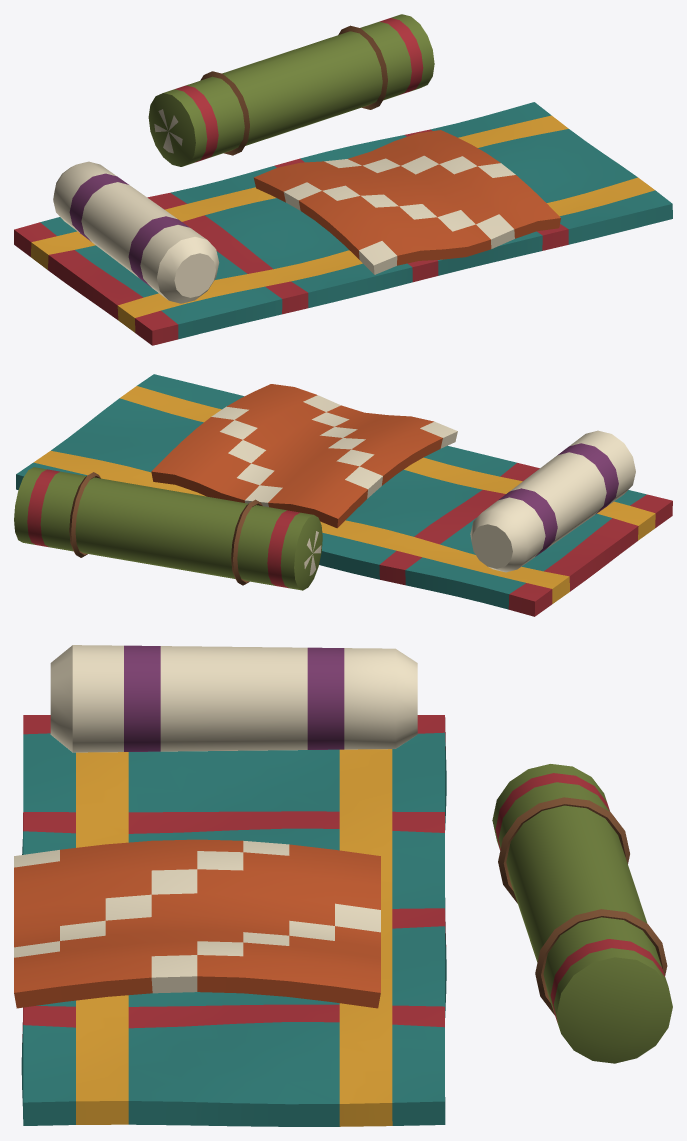
Rendered from deco_sleeping_mat_set.fbx.
3 renders of one model, top to bottom at view 1: azimuth 30°, elevation 25°; view 2: azimuth 150°, elevation 25°; view 3: azimuth 270°, elevation 25°, orthographic. The views are drawn at different scales.
Parts seen in each view (by area): view 1: SleepingMat_Set_Mat, SleepingMat_Set_Blanket, SleepingMat_Set_SpareRoll, SleepingMat_Set_Bolster; view 2: SleepingMat_Set_Mat, SleepingMat_Set_Blanket, SleepingMat_Set_SpareRoll, SleepingMat_Set_Bolster; view 3: SleepingMat_Set_Mat, SleepingMat_Set_Blanket, SleepingMat_Set_Bolster, SleepingMat_Set_SpareRoll.
Boxes of the visible parts, box(x1,y1,x2,y2) form: SleepingMat_Set_Mat: box(14, 102, 672, 345); SleepingMat_Set_Blanket: box(253, 130, 560, 274); SleepingMat_Set_SpareRoll: box(148, 14, 434, 166); SleepingMat_Set_Bolster: box(53, 161, 219, 303); SleepingMat_Set_Mat: box(16, 374, 672, 616); SleepingMat_Set_Blanket: box(151, 384, 457, 528); SleepingMat_Set_SpareRoll: box(14, 467, 322, 590); SleepingMat_Set_Bolster: box(470, 430, 635, 572); SleepingMat_Set_Mat: box(21, 715, 446, 1126); SleepingMat_Set_Blanket: box(14, 839, 380, 1008); SleepingMat_Set_Bolster: box(50, 645, 417, 752); SleepingMat_Set_SpareRoll: box(492, 764, 672, 1063).
Bounding box in the file's own units: 251 × 39.31 × 180.
